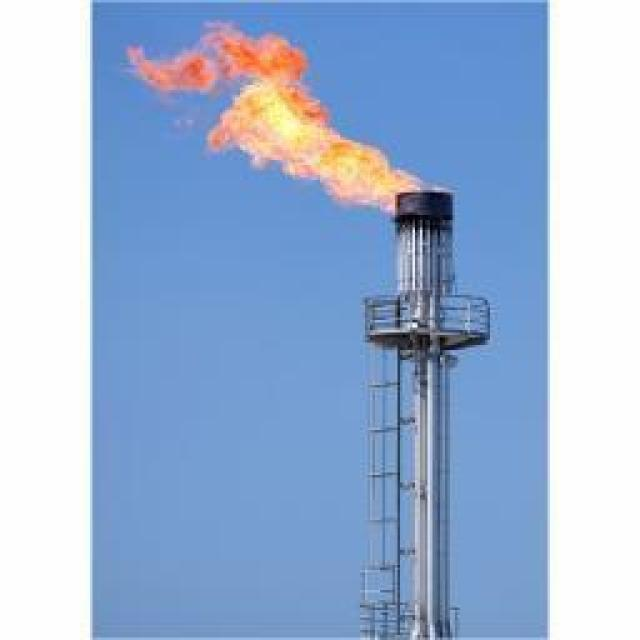fire: (120, 20, 451, 213)
